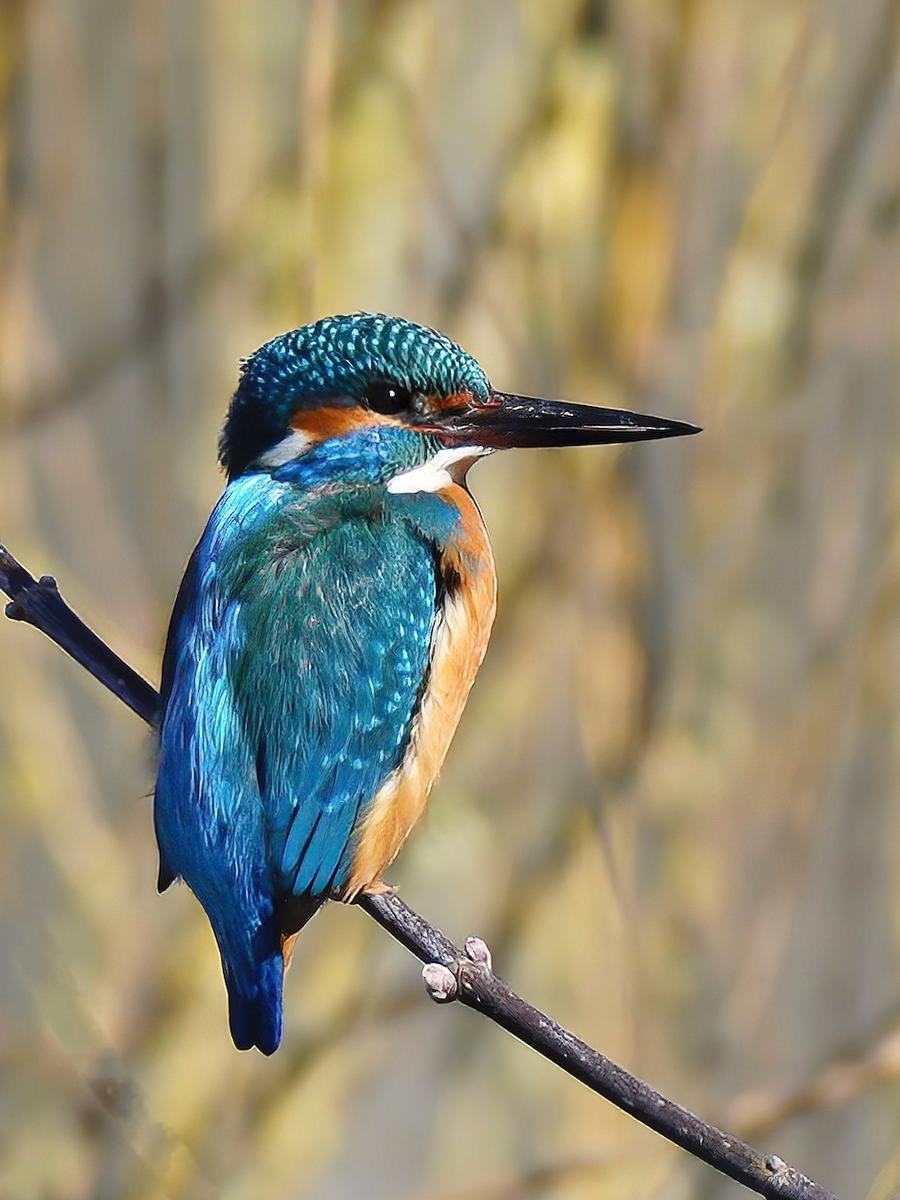kingfisher: (156, 326, 715, 1082)
